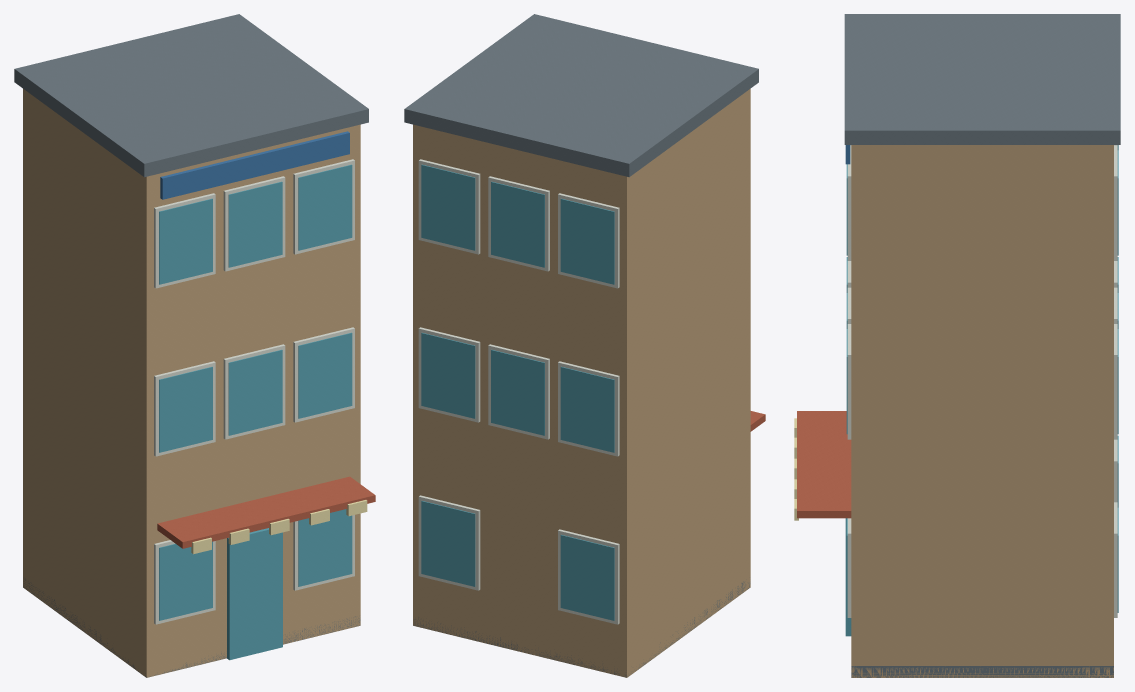
The model's file is shop-tall.glb.
3 views of the same model, side by side, from view 1: azimuth 30°, elevation 25°; view 2: azimuth 150°, elevation 25°; view 3: azimuth 270°, elevation 25° (orthographic). The views are drawn at different scales.
Visible parts, largest first — view 1: Building wall volume 001, Flat roof coping 036, Entry door 035, Shop awning 037, Blank storefront sign 043, Window blue glazing 016, Window blue glazing 020, Window blue glazing 028, Window blue glazing 032, Window blue glazing 024, Window blue glazing 012, Window blue glazing 004 (+10 smaller); view 2: Building wall volume 001, Flat roof coping 036, Window blue glazing 006, Window blue glazing 014, Window blue glazing 022, Window blue glazing 034, Window blue glazing 026, Window blue glazing 010, Window blue glazing 030, Window blue glazing 018, Window trim 021, Window trim 033 (+7 smaller); view 3: Building wall volume 001, Flat roof coping 036, Shop awning 037, Plinth 002, Window trim 019, Window trim 031, Window trim 007.
Part boxes in pixels (left/top/right/bottom): Building wall volume 001: left=23, top=89, right=360, bottom=677; Flat roof coping 036: left=14, top=14, right=368, bottom=177; Entry door 035: left=227, top=528, right=282, bottom=660; Shop awning 037: left=157, top=476, right=375, bottom=548; Blank storefront sign 043: left=160, top=131, right=349, bottom=199; Window blue glazing 016: left=228, top=349, right=282, bottom=435; Window blue glazing 020: left=298, top=332, right=352, bottom=418; Window blue glazing 028: left=228, top=181, right=282, bottom=267; Window blue glazing 032: left=298, top=164, right=352, bottom=250; Window blue glazing 024: left=159, top=198, right=212, bottom=284; Window blue glazing 012: left=159, top=366, right=212, bottom=452; Window blue glazing 004: left=159, top=541, right=212, bottom=620; Building wall volume 001: left=413, top=89, right=750, bottom=677; Flat roof coping 036: left=404, top=14, right=758, bottom=177; Window blue glazing 006: left=560, top=534, right=614, bottom=620; Window blue glazing 014: left=560, top=366, right=614, bottom=452; Window blue glazing 022: left=421, top=332, right=475, bottom=418; Window blue glazing 034: left=421, top=164, right=475, bottom=250; Window blue glazing 026: left=560, top=198, right=614, bottom=284; Window blue glazing 010: left=421, top=501, right=475, bottom=586; Window blue glazing 030: left=491, top=181, right=544, bottom=267; Window blue glazing 018: left=491, top=349, right=544, bottom=435; Window trim 021: left=418, top=327, right=480, bottom=422; Window trim 033: left=418, top=159, right=480, bottom=254; Building wall volume 001: left=851, top=145, right=1113, bottom=677; Flat roof coping 036: left=844, top=14, right=1120, bottom=144; Shop awning 037: left=797, top=411, right=851, bottom=518; Plinth 002: left=851, top=666, right=1113, bottom=677; Window trim 019: left=847, top=324, right=851, bottom=439; Window trim 031: left=847, top=145, right=851, bottom=260; Window trim 007: left=847, top=518, right=851, bottom=617.
Bounding box in the file's own units: 4.2 × 9.24 × 4.96.
7 materials, 7 textured.
